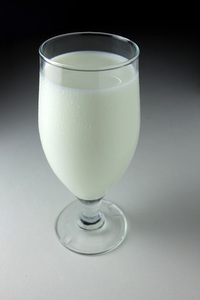glass of milk: (46, 48, 133, 234)
